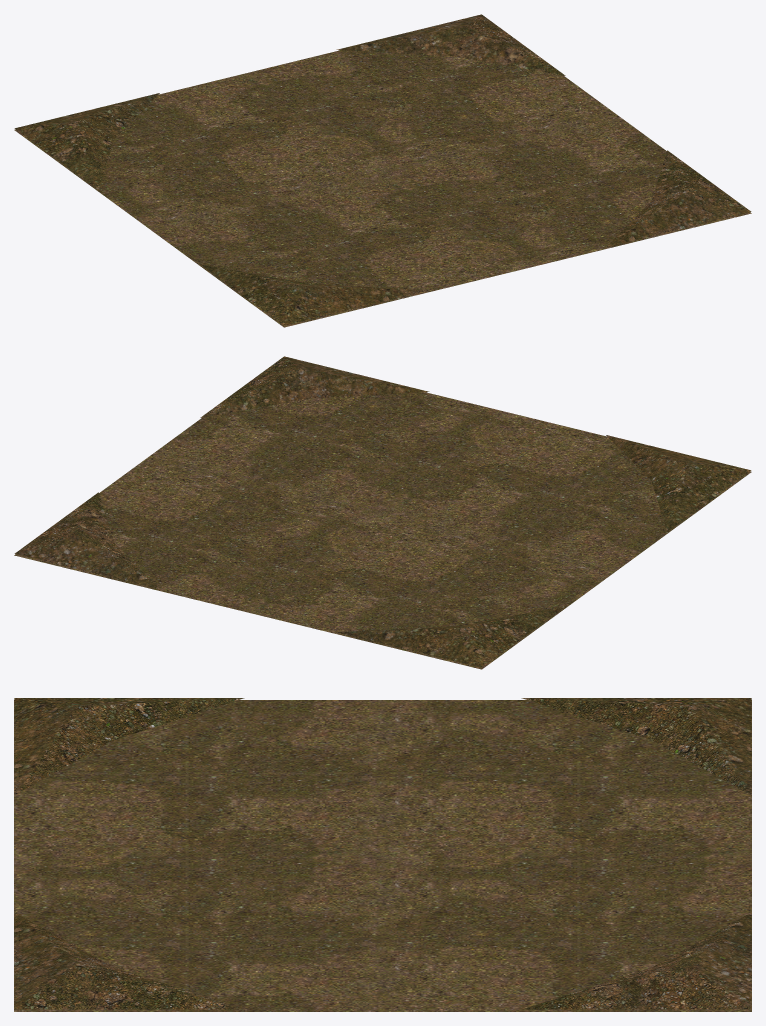
File: Garden_02_Art.fbx
The picture shows the model from 3 angles, top to bottom: view 1: azimuth 30°, elevation 25°; view 2: azimuth 150°, elevation 25°; view 3: azimuth 270°, elevation 25°; orthographic projection. The views are drawn at different scales.
Visible parts, largest first — view 1: Garden_02_Art; view 2: Garden_02_Art; view 3: Garden_02_Art.
Part boxes in pixels (x1=…): Garden_02_Art: x1=14, y1=14, x2=751, y2=327; Garden_02_Art: x1=14, y1=356, x2=751, y2=669; Garden_02_Art: x1=14, y1=698, x2=751, y2=1011.
Bounding box in the file's own units: 1598 × 48.84 × 1598.
